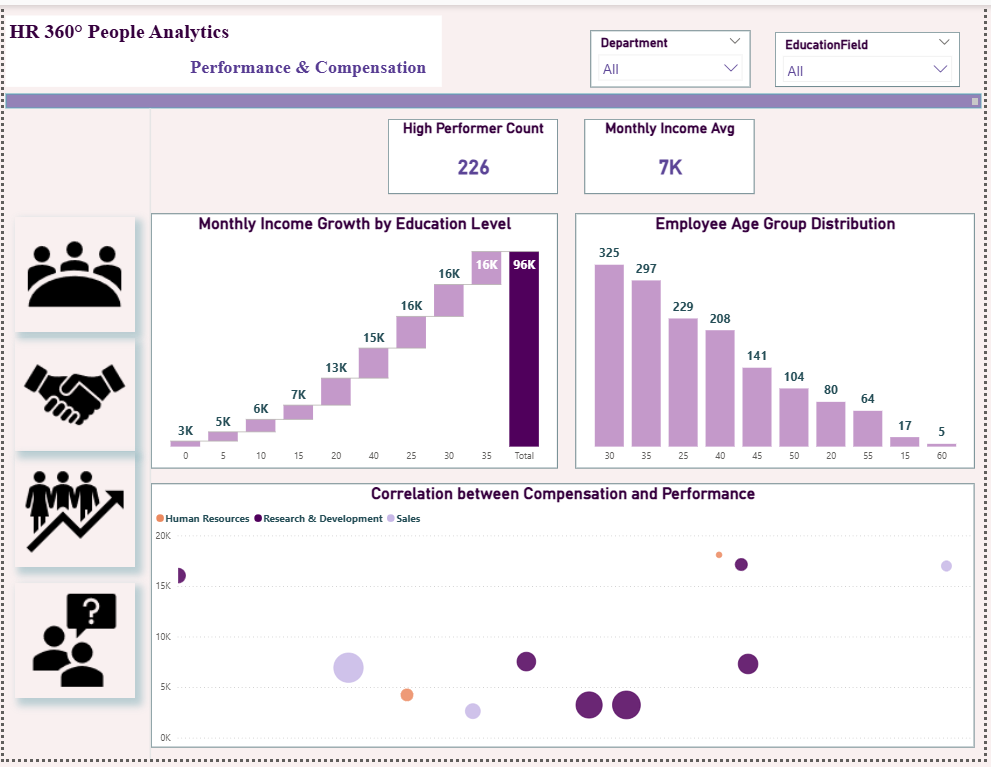

The dashboard page shown, as its layout file describes it:
{"tool":"powerbi","page":{"name":"Performance & Compensation","canvas":[1300,1000],"ordinal":2},"visuals":[{"type":"textbox","box":[2.2,13.3,578.8,95],"z":0},{"type":"slicer","fields":{"Values":["HR Analytics Data.Department"]},"box":[777.6,33.1,212.1,75.1],"z":1000},{"type":"slicer","fields":{"Values":["HR Analytics Data.EducationField"]},"box":[1022.9,35.3,245.2,72.9],"z":2000},{"type":"card","title":"High Performer Count","fields":{"Values":["Measure.High Performer Count"]},"box":[508.4,150.2,225.3,99.4],"z":3000},{"type":"textbox","box":[2.2,117.1,1294.6,19.9],"z":4000},{"type":"card","title":"Monthly Income Avg","fields":{"Values":["Measure.Monthly Income Avg"]},"box":[770.6,150.2,225.3,99.4],"z":5000},{"type":"shape","box":[172.3,137,42,863.8],"z":6000},{"type":"columnChart","title":"Employee Age Group Distribution","fields":{"Y":["Measure.Total Employees"],"Category":["HR Analytics Data.Age (bins)"]},"box":[758,276.5,529.2,338.2],"z":7000},{"type":"waterfallChart","title":"Monthly Income Growth by Education Level","fields":{"Category":["HR Analytics Data.TotalWorkingYears (bins)"],"Y":["Measure.Monthly Income Avg"]},"box":[195,276.5,539.1,338.2],"z":8000},{"type":"image","box":[13.3,280.6,159.1,152.4],"z":9000,"group":"g1"},{"type":"scatterChart","title":"Correlation between Compensation and Performance","fields":{"Y":["Measure.Monthly Income Avg"],"X":["Avg(HR Analytics Data.PerformanceRating)"],"Category":["HR Analytics Data.JobRole"],"Series":["HR Analytics Data.Department"],"Size":["Measure.Total Employees"]},"box":[195,634.6,1092.2,350.1],"z":9000},{"type":"group","id":"g1","title":"Group 1","box":[13.3,280.6,159.8,638.6],"z":10000},{"type":"image","box":[13.3,592.1,159.1,152.4],"z":10000,"group":"g1"},{"type":"image","box":[14,766,159.2,153.2],"z":11000,"group":"g1"},{"type":"image","box":[13.3,441.9,159.1,150.2],"z":16001,"group":"g1"}]}

Visuals, with their boxes in screenshot pixels (x1, y1, x2, y2), scaled from the page's 1300x1000 canvas onto the 991x767 screenshot:
textbox: (2,10,443,83)
slicer - HR Analytics Data.Department: (593,25,754,83)
slicer - HR Analytics Data.EducationField: (780,27,967,83)
"High Performer Count" card: (388,115,559,191)
textbox: (2,90,989,105)
"Monthly Income Avg" card: (587,115,759,191)
shape: (131,105,163,766)
"Employee Age Group Distribution" columnChart: (578,212,981,471)
"Monthly Income Growth by Education Level" waterfallChart: (149,212,560,471)
image: (10,215,131,332)
"Correlation between Compensation and Performance" scatterChart: (149,487,981,755)
"Group 1" group: (10,215,132,705)
image: (10,454,131,571)
image: (11,588,132,705)
image: (10,339,131,454)
